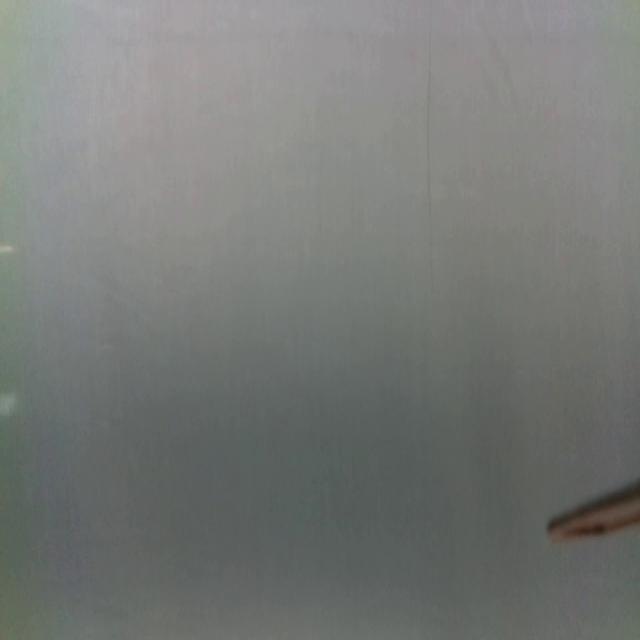crease: (424, 9, 434, 305)
